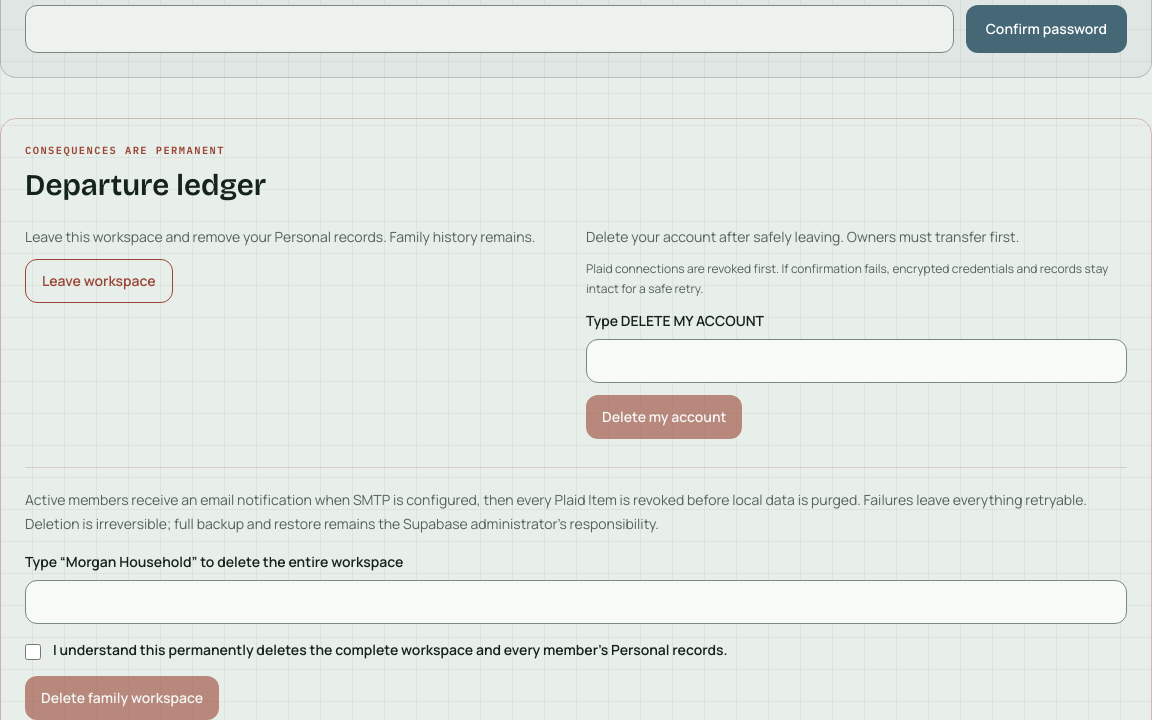
Test: GH-12 membership danger zone › FE-002 exposes exact account and workspace confirmations and keeps invalid destructive input usable
(page scrolled)
Expected: the button with test id "delete-account" is disabled, [586,395,742,439]
In the field with test id "account-deletion-confirmation": x=856, y=361 [586,339,1127,383], type "delete my account"
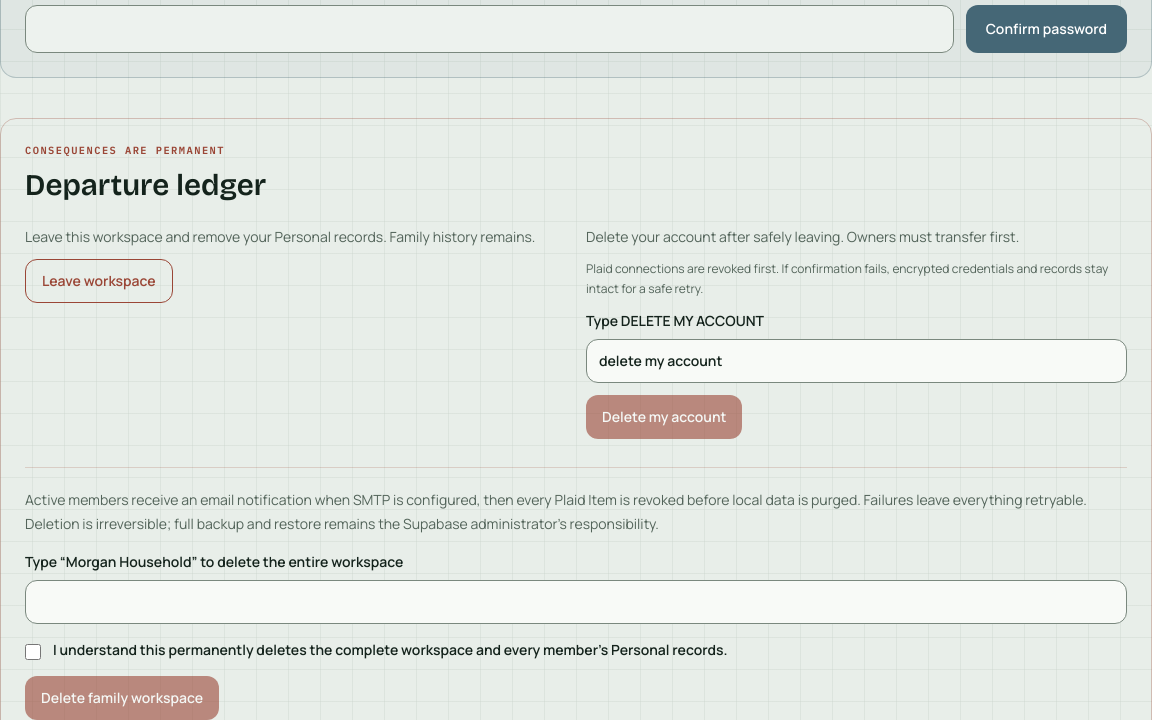
Expected: the button with test id "delete-account" is disabled, [586,395,742,439]
Replace the text in the field with test id "account-deletion-confirmation" with "DELETE MY ACCOUNT": x=856, y=361 [586,339,1127,383]
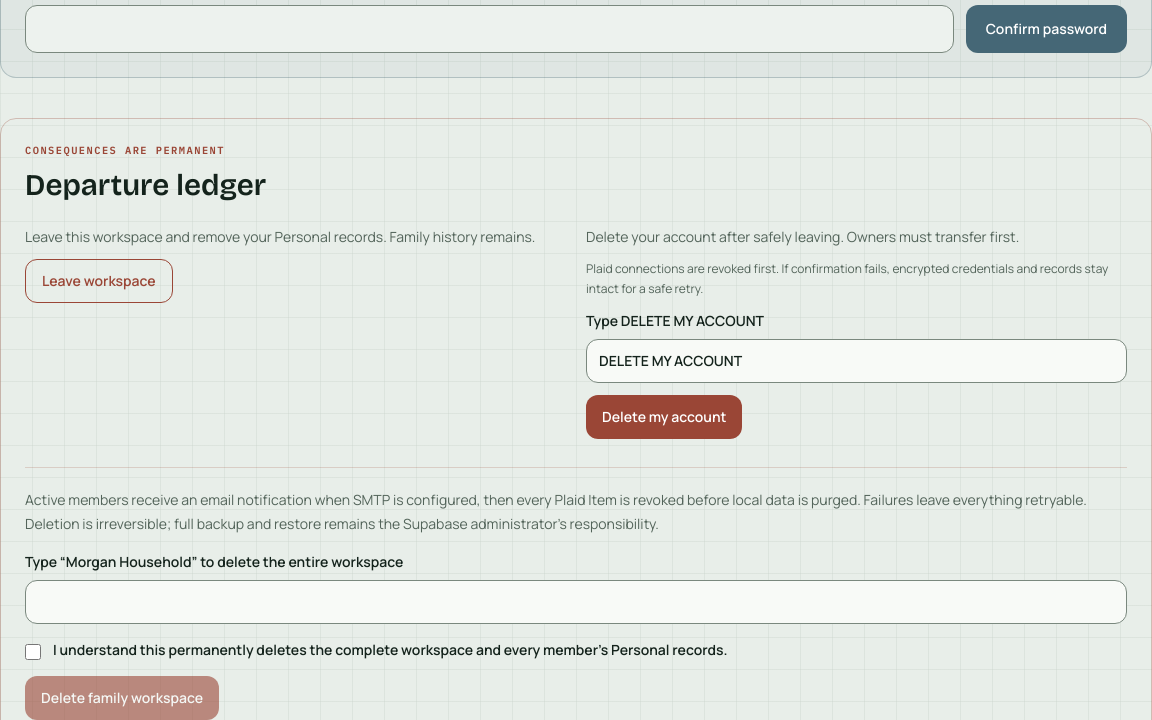
Expected: the button with test id "delete-workspace" is disabled, [25,676,219,719]
Result: the button with test id "delete-account" is enabled at [586,395,742,439]
In the field labelled "Type “Morgan Household” to delete the entire workspace": x=576, y=602 [25,580,1127,624], type "Morgan Household"
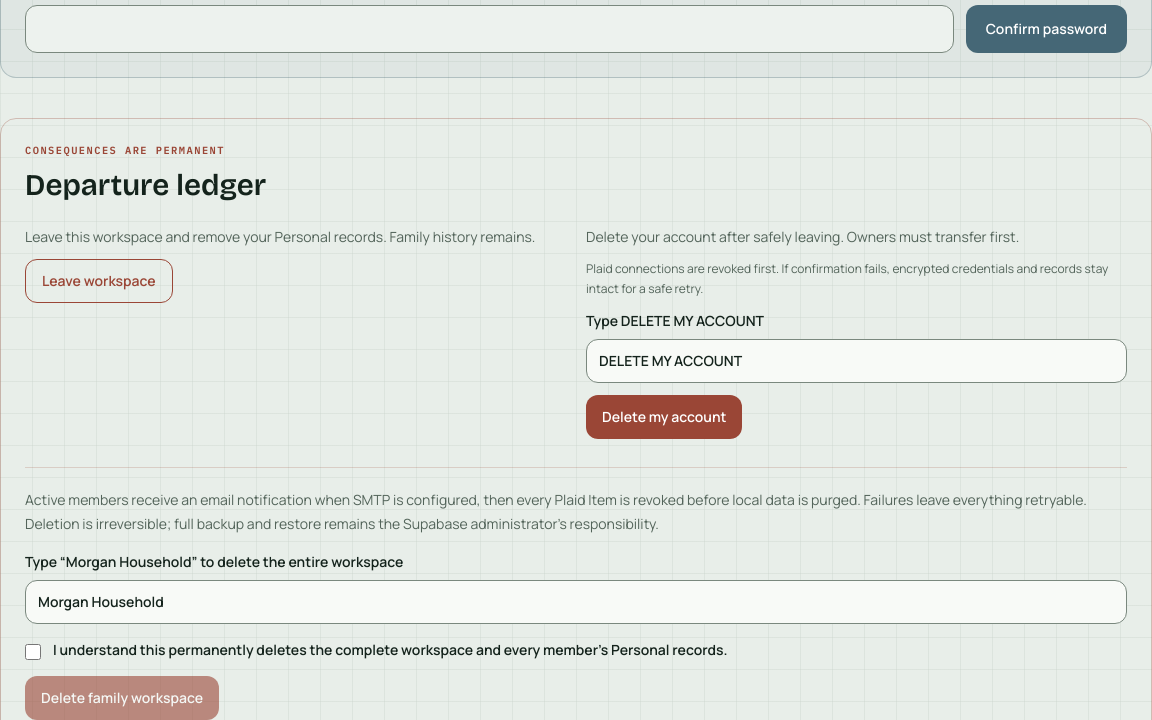
Expected: the button with test id "delete-workspace" is disabled, [25,676,219,719]
Click the checkbox with test id "workspace-deletion-acknowledgement": x=33, y=652 [25,644,41,660]
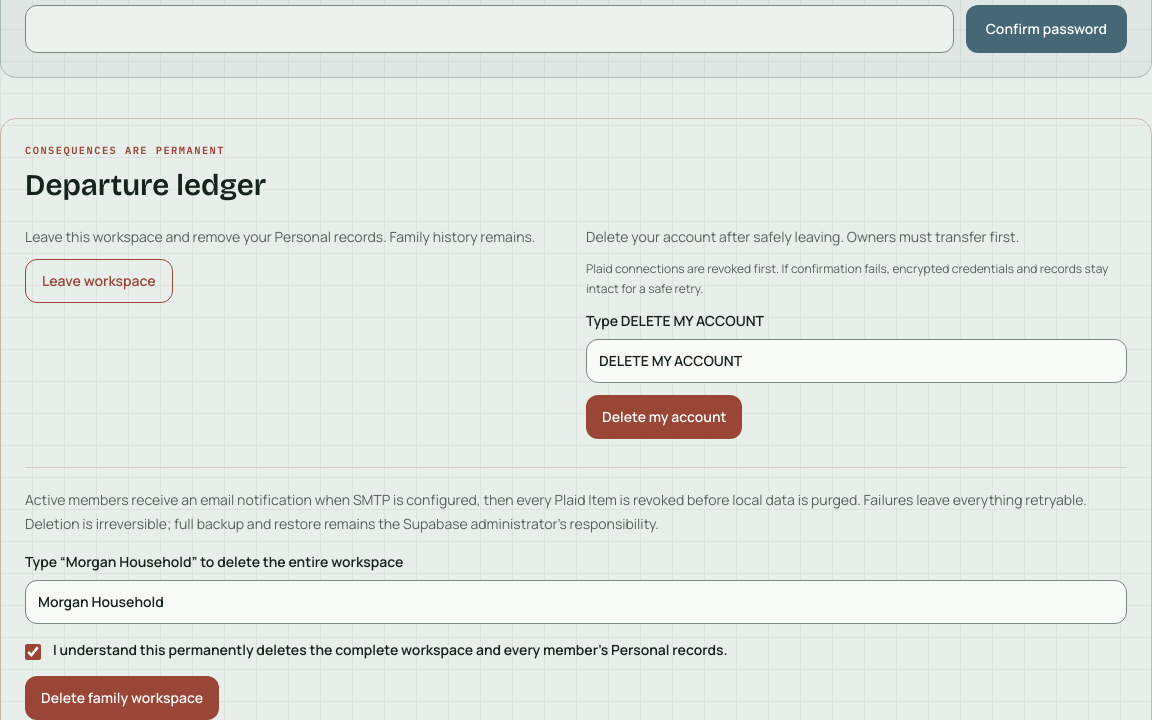
Result: the button with test id "delete-workspace" is enabled at [25,676,219,719]
